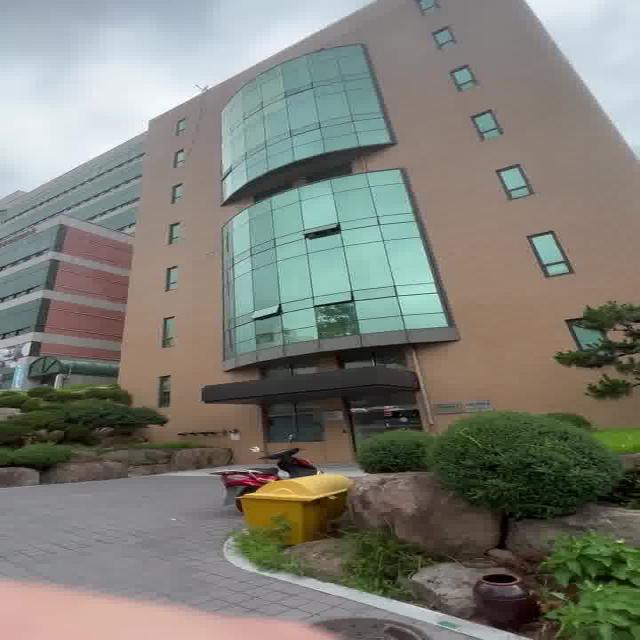building: (115, 46, 492, 412)
